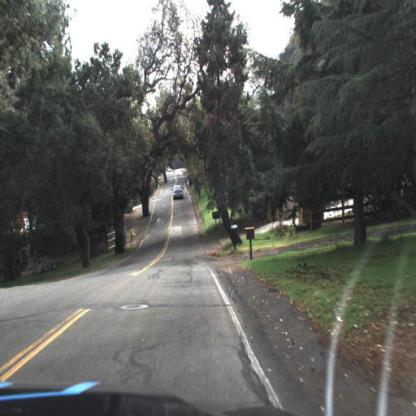car: (170, 183, 187, 204)
